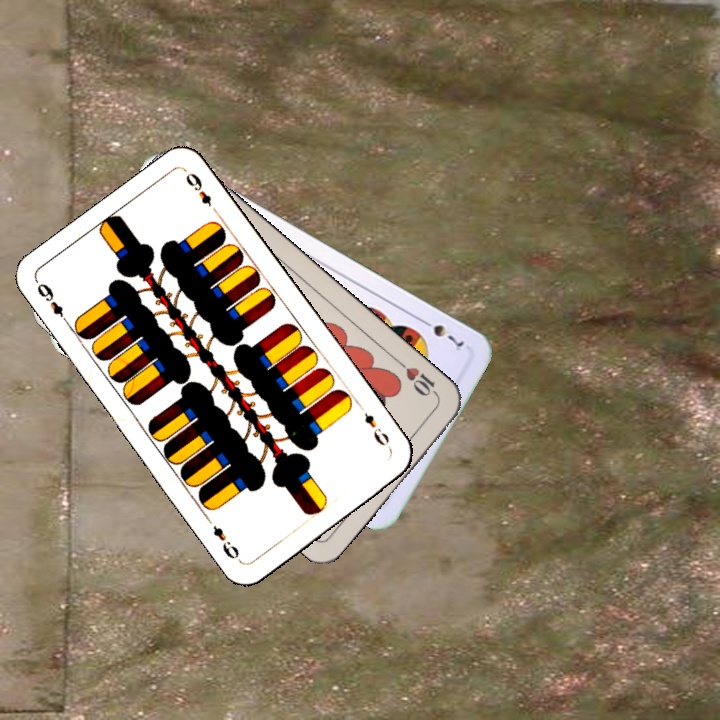E9: (32, 279, 73, 329), (355, 401, 394, 453)
H10: (393, 357, 442, 401)
S7: (416, 314, 467, 354)
